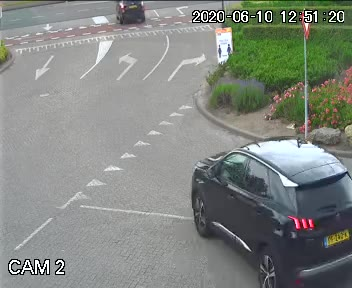car: (177, 116, 352, 287), (112, 0, 146, 26)
